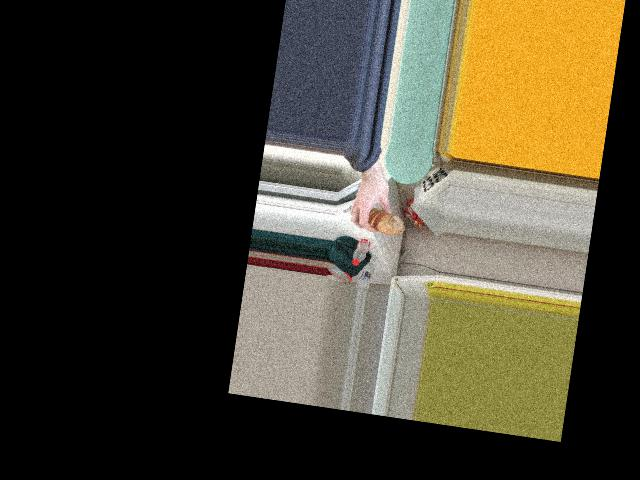sweet_potato: (362, 201, 398, 236)
